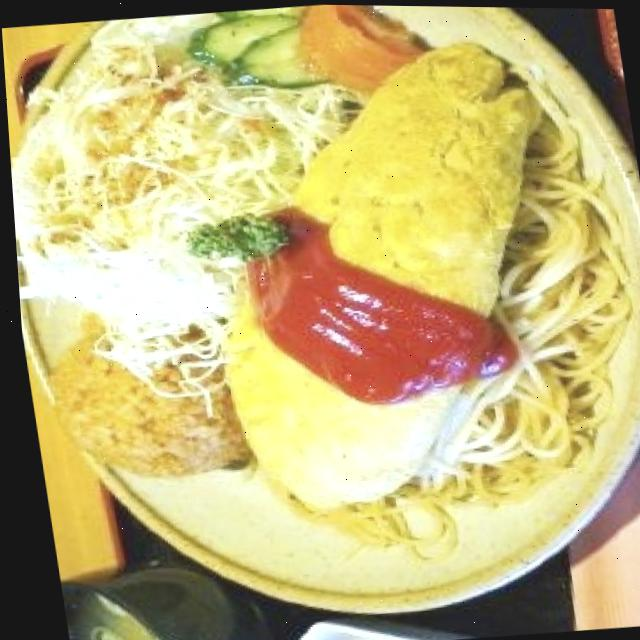鸡蛋料理: (162, 2, 601, 524)
